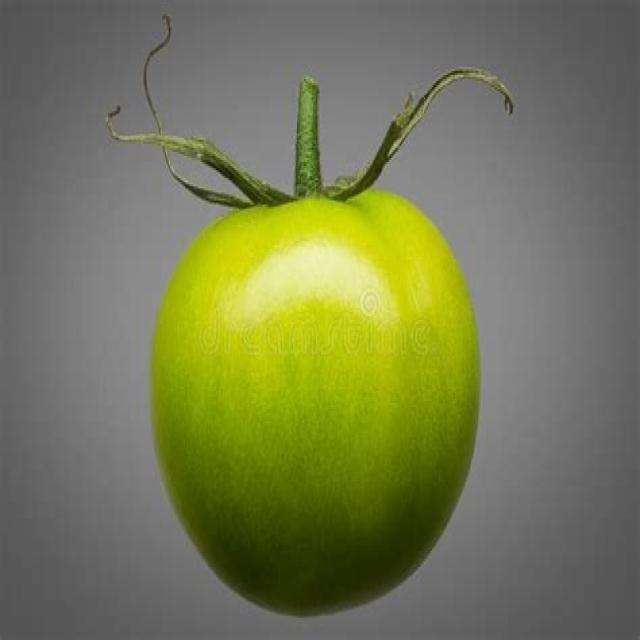Tomato: (147, 70, 504, 621)
